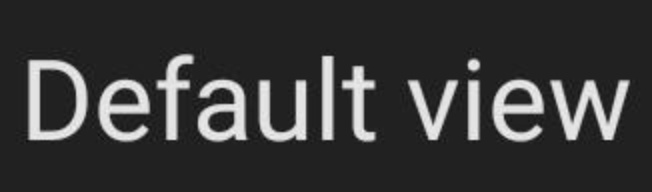TextView: (1, 1, 651, 191)
